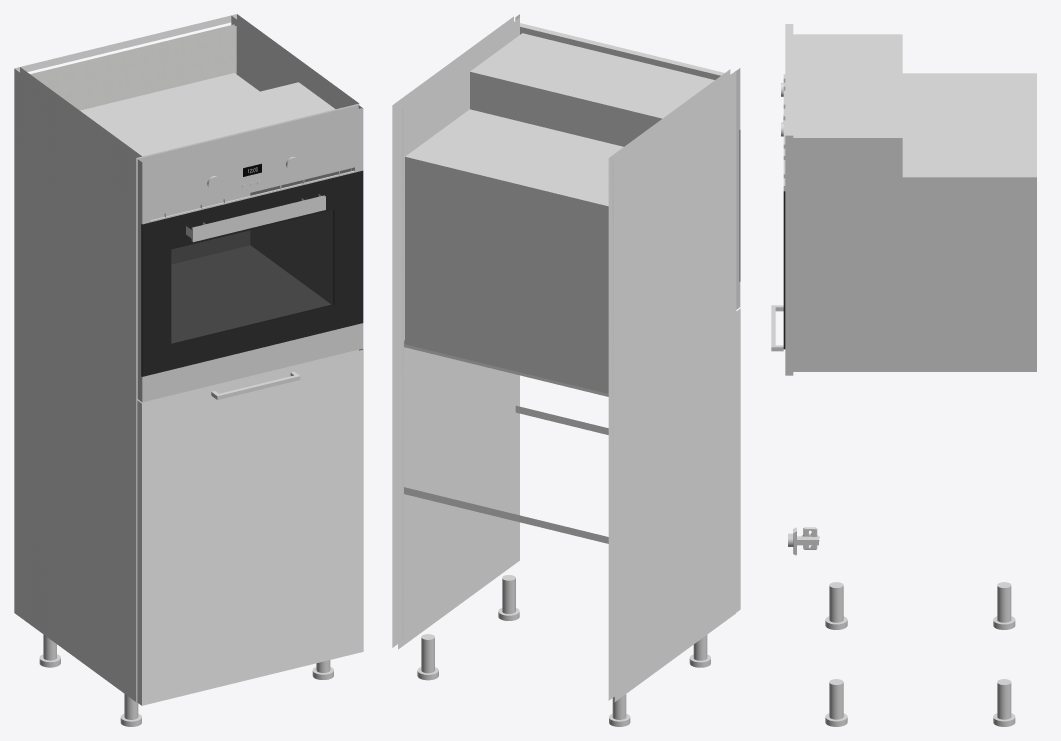
Rendered from testSchrank.glb.
3 views of the same model, side by side, from view 1: azimuth 30°, elevation 25°; view 2: azimuth 150°, elevation 25°; view 3: azimuth 270°, elevation 25° (orthographic). The views are drawn at different scales.
Size of the model in its own units: 0.6 by 1.5 by 0.6257.
Materials: 12 (7 with a texture image).
